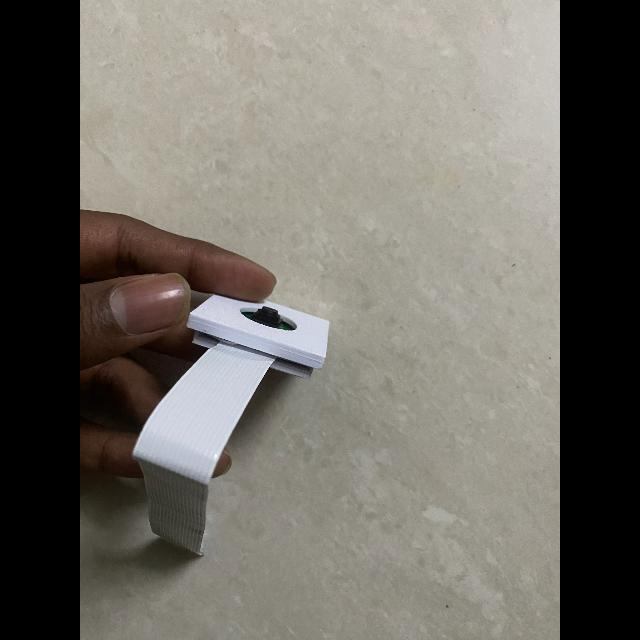RASPBERY PI CAM ENCLOSURE: (186, 294, 330, 380)
